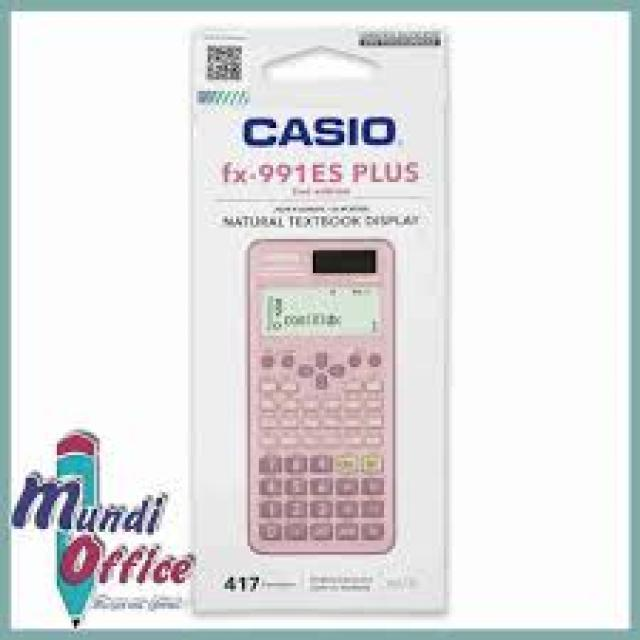Calculator: (166, 13, 470, 618)
